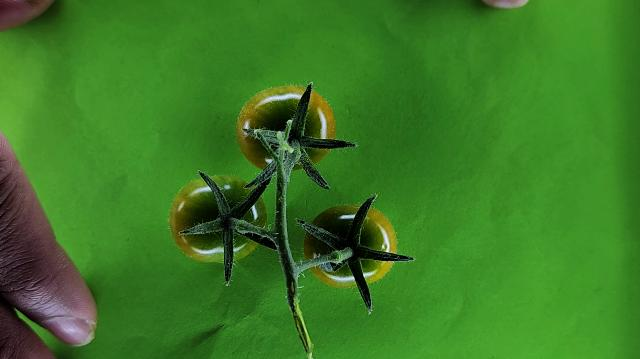Fully Grown: (236, 84, 337, 171), (169, 176, 269, 263), (302, 204, 398, 289)
